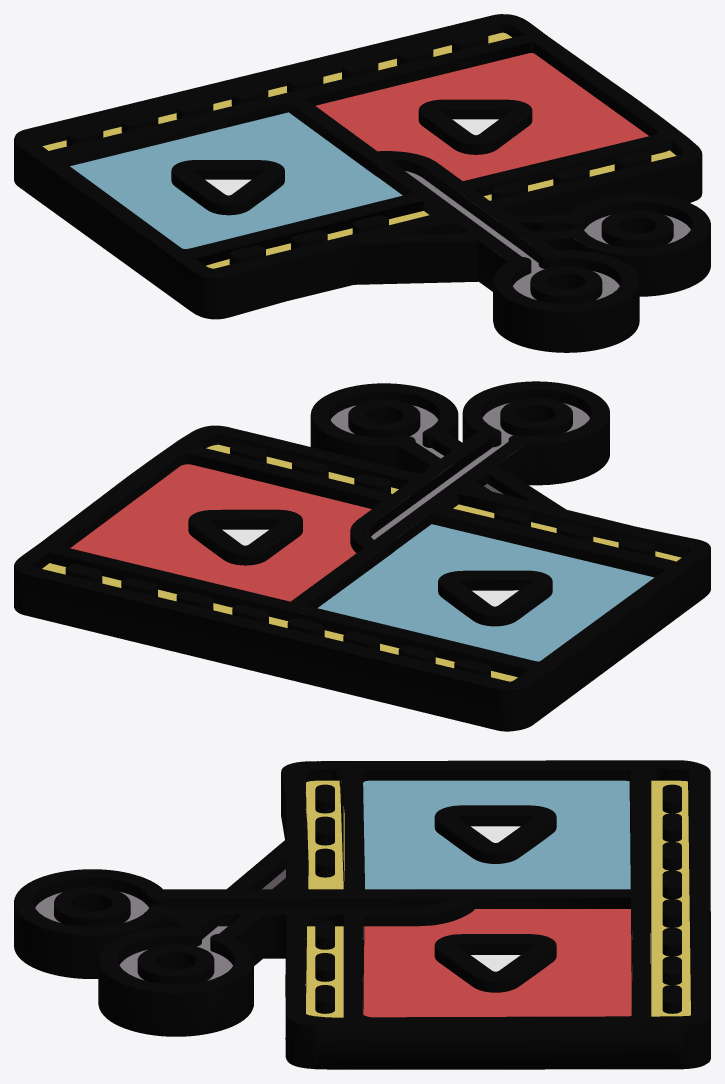
The model's file is Edit.glb.
3 renders of one model, top to bottom at view 1: azimuth 30°, elevation 25°; view 2: azimuth 150°, elevation 25°; view 3: azimuth 270°, elevation 25°, orthographic. The views are drawn at different scales.
Visible parts, largest first — view 1: Curve.020; view 2: Curve.020; view 3: Curve.020.
Boxes of the visible parts, box(x1,y1,x2,y2) form: Curve.020: box(14, 14, 710, 352); Curve.020: box(14, 381, 710, 731); Curve.020: box(14, 760, 710, 1069).
Bounding box in the file's own units: 2.66 × 0.2079 × 2.95.
1 material, 1 textured.
